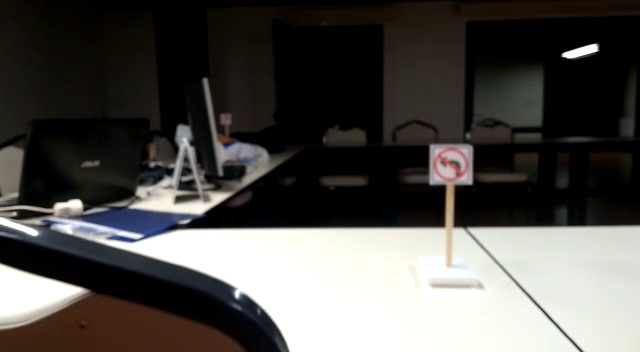sola_donulmez: (434, 144, 471, 182)
